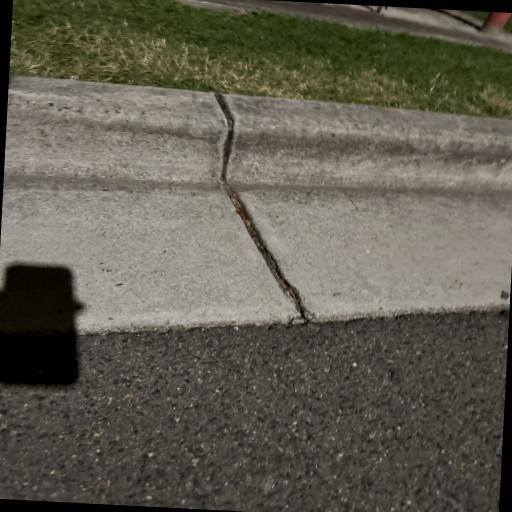kerb: (0, 77, 512, 339)
